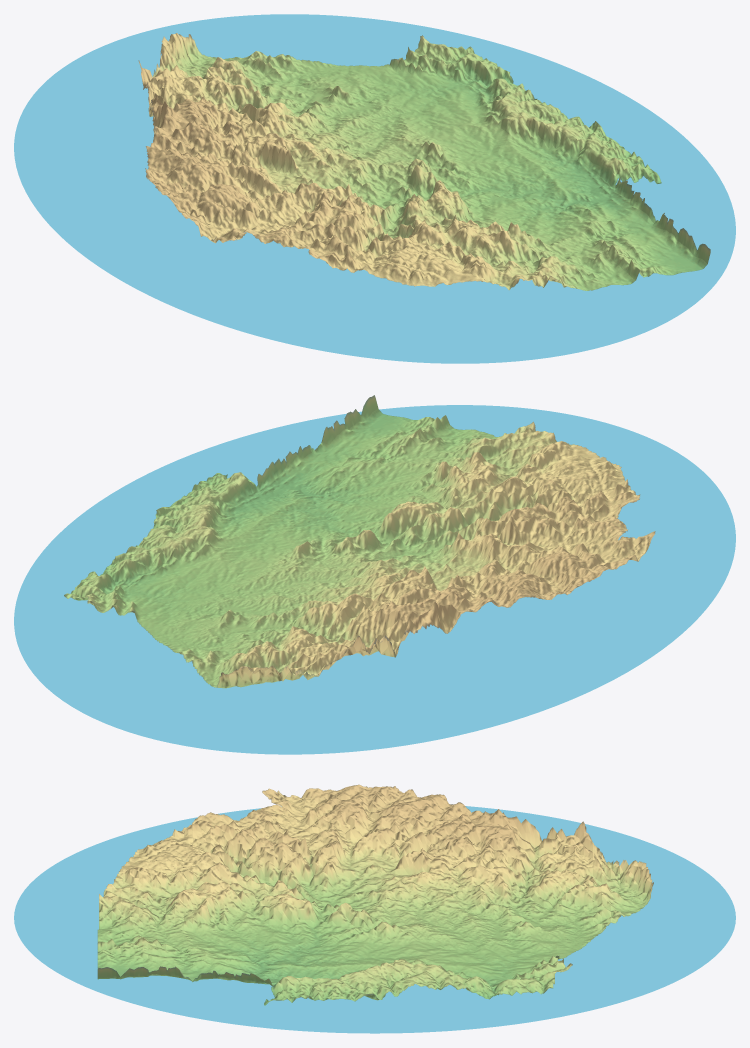
File: SWZ-terrain.glb
3 views of the same model, one above another, from view 1: azimuth 30°, elevation 25°; view 2: azimuth 150°, elevation 25°; view 3: azimuth 270°, elevation 25° (orthographic). The views are drawn at different scales.
Visible parts, largest first — view 1: Relevo com hidrografia; view 2: Relevo com hidrografia; view 3: Relevo com hidrografia.
Boxes of the visible parts, bbox=[...] form: Relevo com hidrografia: bbox=[14, 14, 735, 363]; Relevo com hidrografia: bbox=[14, 395, 735, 754]; Relevo com hidrografia: bbox=[14, 784, 735, 1033].
Bounding box in the file's own units: 1.58 × 0.1745 × 2.09.
Materials: 2 (1 with a texture image).
